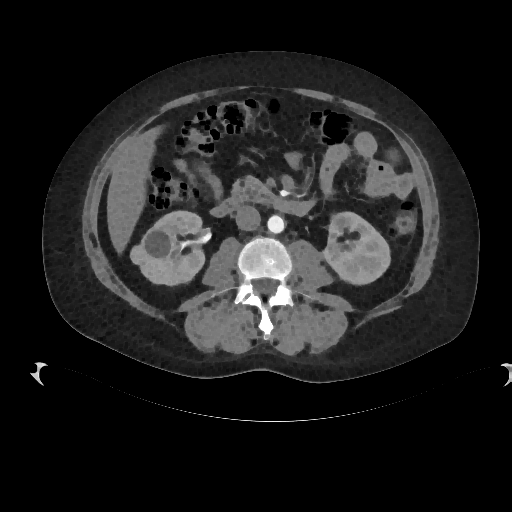Lesion: (127, 246, 146, 266)
